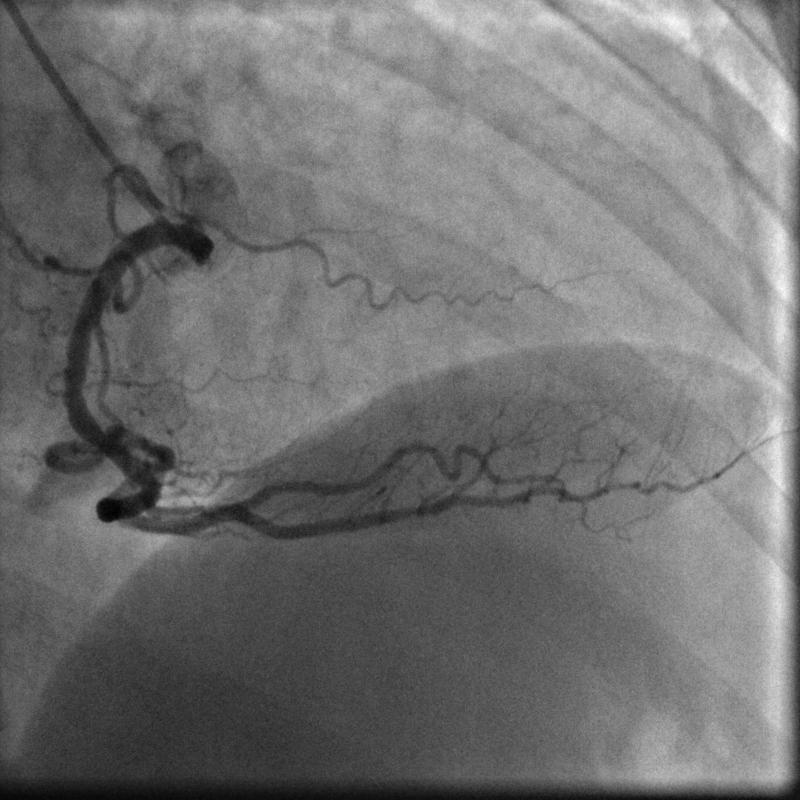Stenosis: (78, 425, 131, 456)
